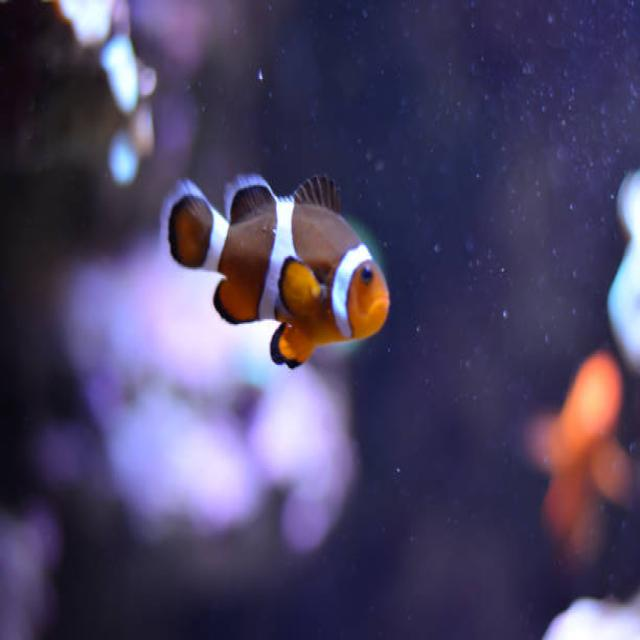ClownFish: (163, 168, 390, 382)
